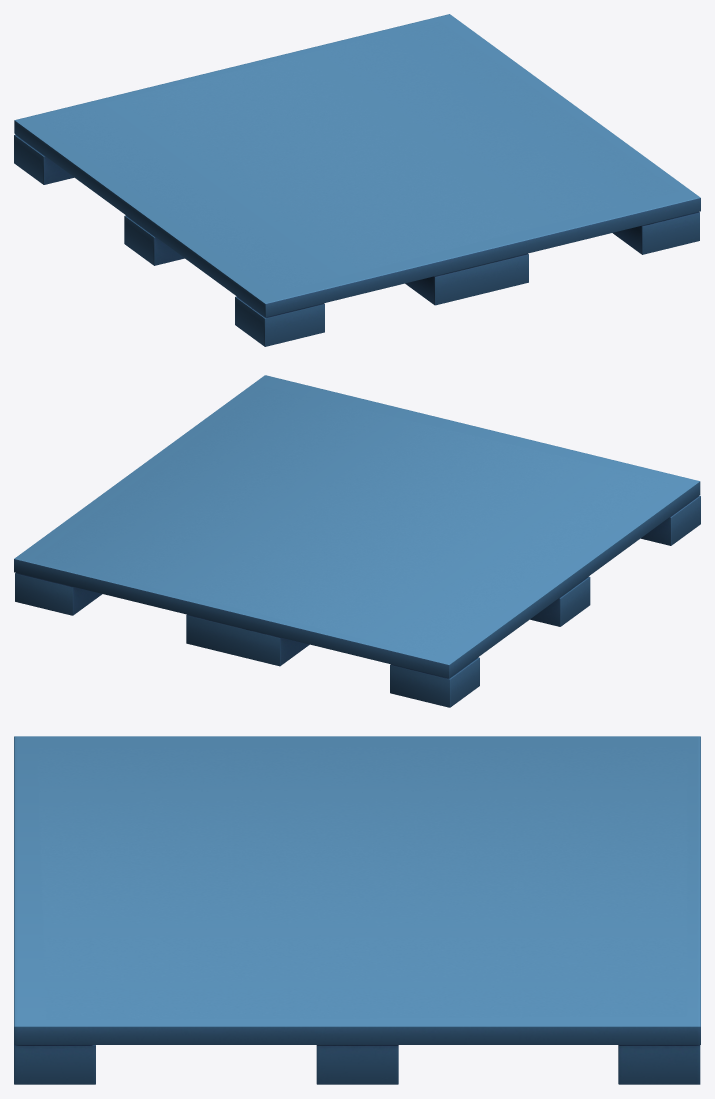
Rendered from tray.serva.3345.obj.
The picture shows the model from 3 angles, top to bottom: view 1: azimuth 30°, elevation 25°; view 2: azimuth 150°, elevation 25°; view 3: azimuth 270°, elevation 25°; orthographic projection. The views are drawn at different scales.
Visible parts, largest first — view 1: Obj3d66_664248_771_8; view 2: Obj3d66_664248_771_8; view 3: Obj3d66_664248_771_8.
Boxes of the visible parts, box(x1,y1,x2,y2) form: Obj3d66_664248_771_8: box(14, 14, 700, 346); Obj3d66_664248_771_8: box(14, 375, 700, 707); Obj3d66_664248_771_8: box(14, 736, 700, 1084).
Bounding box in the file's own units: 120 × 11.33 × 120.
